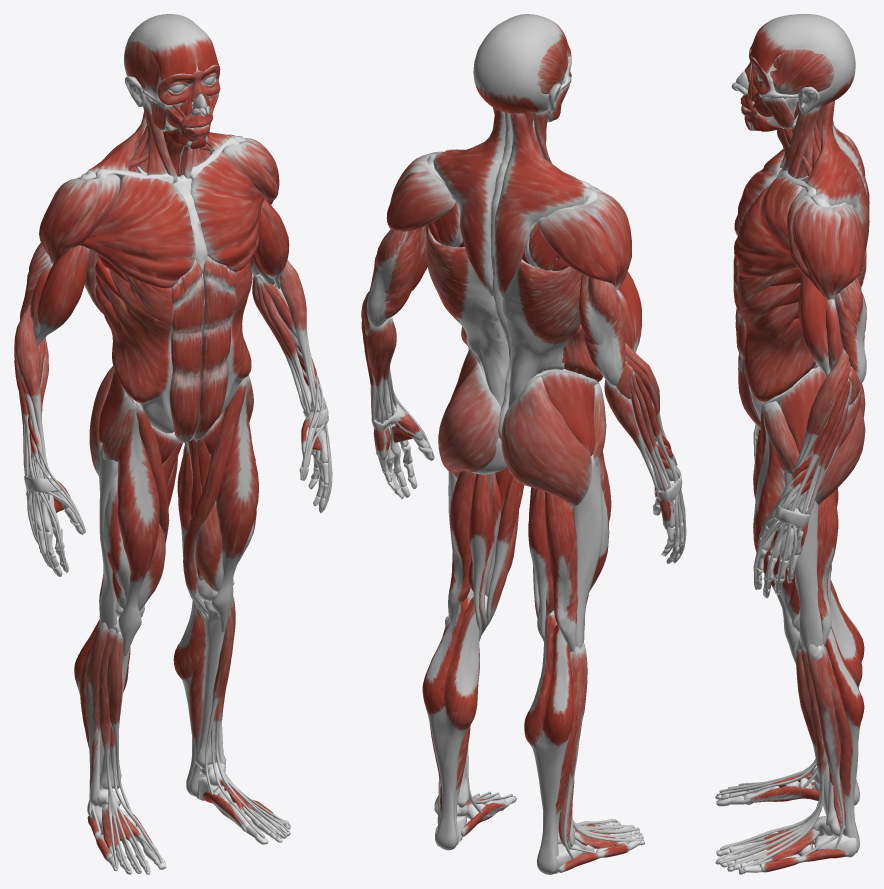
File: muscular_system.glb
3 renders of one model, left to right at view 1: azimuth 30°, elevation 25°; view 2: azimuth 150°, elevation 25°; view 3: azimuth 270°, elevation 25°, orthographic. The views are drawn at different scales.
Visible parts, largest first — view 1: Object_23, Object_17, Object_11, Object_25, Object_31, Object_15, Object_33, Object_5, Object_7, Object_27, Object_3, Object_19 (+2 smaller); view 2: Object_13, Object_7, Object_3, Object_11, Object_9, Object_5, Object_33, Object_15, Object_31, Object_25, Object_27, Object_21 (+3 smaller); view 3: Object_23, Object_11, Object_25, Object_15, Object_31, Object_5, Object_7, Object_3, Object_33, Object_13, Object_17, Object_19 (+2 smaller).
Part boxes in pixels (x1,y1,x2,y2): Object_23: (78,152,264,443); Object_17: (103,377,258,656); Object_11: (24,65,328,874); Object_25: (85,595,290,872); Object_31: (14,260,332,575); Object_15: (124,14,220,149); Object_33: (20,199,289,344); Object_5: (39,138,279,264); Object_7: (74,572,206,814); Object_27: (151,410,224,615); Object_3: (89,366,253,475); Object_19: (118,102,212,182); Object_13: (425,109,590,407); Object_7: (422,595,578,874); Object_3: (438,349,606,507); Object_11: (371,56,683,873); Object_9: (448,471,577,651); Object_5: (386,151,631,290); Object_33: (367,226,641,385); Object_15: (473,14,571,121); Object_31: (361,291,686,561); Object_25: (437,617,643,872); Object_27: (484,467,553,630); Object_21: (373,389,682,529); Object_23: (733,149,815,429); Object_11: (715,47,857,874); Object_25: (716,644,849,872); Object_15: (740,14,855,131); Object_31: (753,347,861,597); Object_5: (786,127,865,299); Object_7: (824,580,864,852); Object_3: (763,368,865,505); Object_33: (798,249,866,384); Object_13: (770,101,869,368); Object_17: (753,402,799,664); Object_19: (760,101,827,180).
Bounding box in the file's own units: 26.13 × 68.16 × 11.69.
15 materials, 15 textured.
